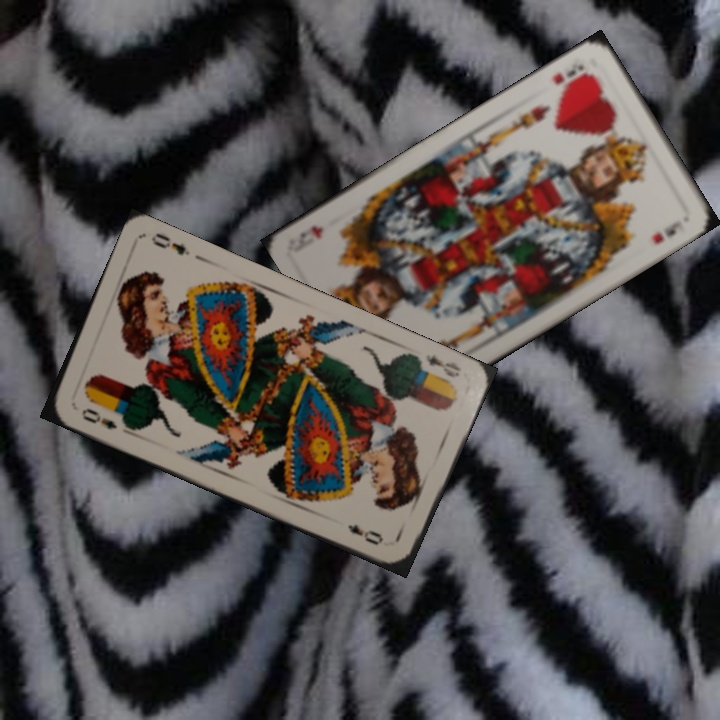EO: (421, 350, 464, 381), (77, 404, 120, 432)
HK: (548, 61, 591, 95)
